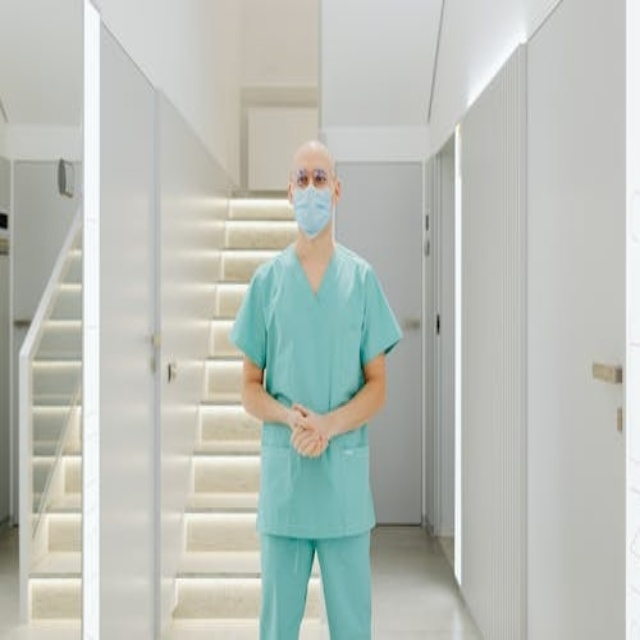Gafas: (291, 169, 335, 190)
Mascara: (292, 182, 333, 238)
Sin_guantes: (288, 403, 329, 459)
